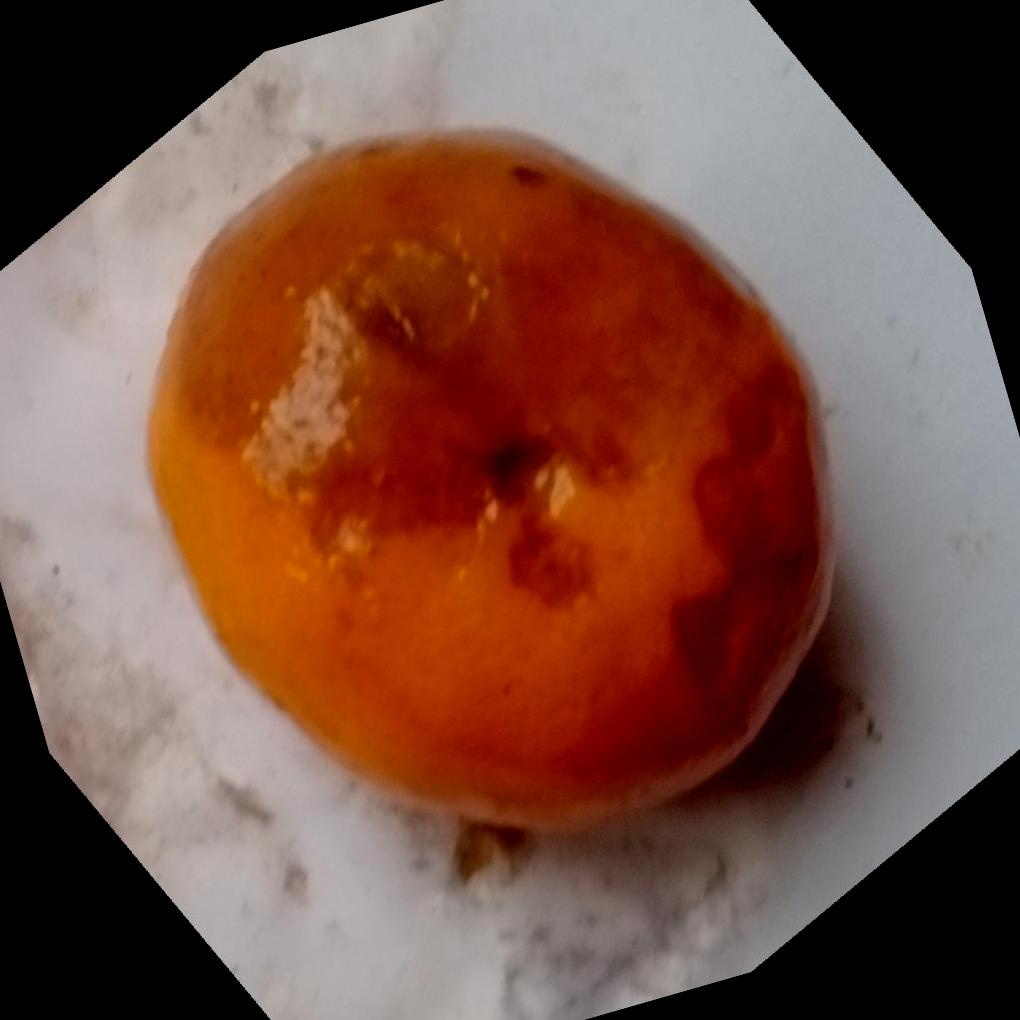FreshOrange: (146, 128, 842, 837)
